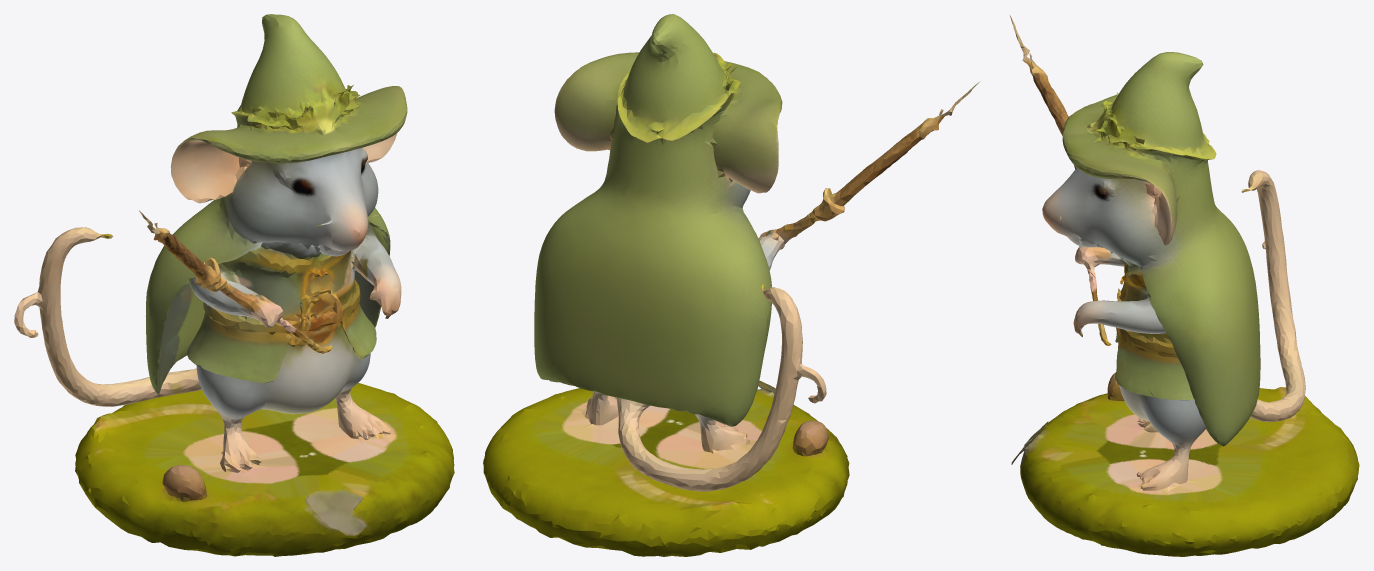
The picture shows the model from 3 angles, left to right: view 1: azimuth 30°, elevation 25°; view 2: azimuth 150°, elevation 25°; view 3: azimuth 270°, elevation 25°; orthographic projection. The views are drawn at different scales.
Parts seen in each view (by area): view 1: 001; view 2: 001; view 3: 001.
Part boxes in pixels (left/top/right/bottom): 001: left=14, top=14, right=454, bottom=556; 001: left=483, top=14, right=980, bottom=556; 001: left=1010, top=15, right=1359, bottom=556.
Bounding box in the file's own units: 1.65 × 1.9 × 1.38.
1 material, 1 textured.
